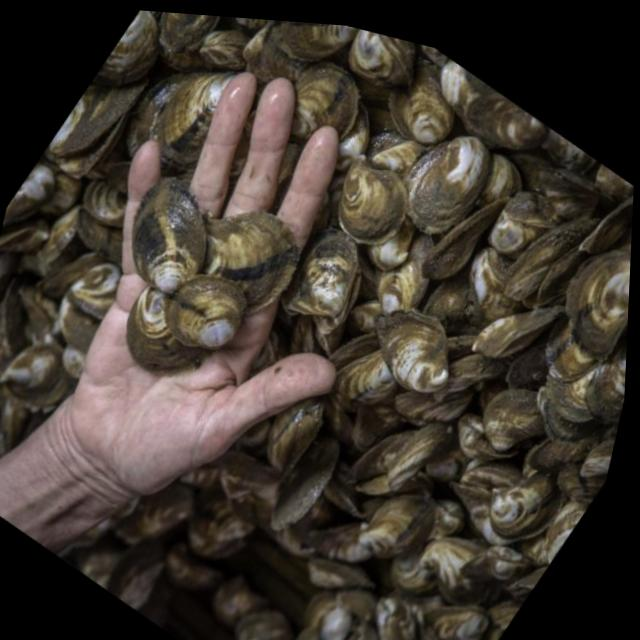Oyster-Closed: (486, 139, 616, 217), (419, 185, 506, 298), (475, 294, 569, 374), (0, 277, 26, 373), (462, 546, 530, 581), (18, 284, 58, 341), (199, 30, 248, 68)
Oyster-Indeterminate: (202, 211, 299, 307), (132, 177, 206, 293), (503, 217, 598, 307), (406, 136, 490, 234), (348, 422, 455, 495), (154, 71, 233, 166), (567, 249, 631, 358), (269, 434, 340, 531), (119, 57, 185, 154), (126, 286, 200, 370), (289, 229, 359, 317), (165, 274, 247, 349), (337, 160, 408, 245), (376, 310, 448, 392), (291, 63, 359, 140), (114, 481, 195, 545), (471, 144, 544, 214), (186, 489, 255, 560), (420, 536, 492, 604), (359, 493, 434, 558), (94, 10, 158, 86), (463, 93, 547, 150), (377, 233, 434, 314), (489, 473, 555, 538), (394, 74, 454, 144), (266, 398, 323, 471), (520, 502, 587, 564), (242, 20, 305, 82), (348, 29, 415, 86), (423, 272, 483, 335), (482, 388, 542, 451), (216, 451, 280, 506), (585, 340, 627, 423), (335, 350, 396, 404), (440, 59, 496, 117), (276, 21, 356, 61), (66, 261, 121, 319), (2, 163, 54, 224), (545, 320, 596, 382), (5, 367, 75, 412), (579, 196, 633, 254), (522, 435, 597, 476), (39, 252, 104, 298), (536, 387, 592, 440), (0, 345, 61, 392), (166, 541, 223, 591), (395, 389, 472, 426), (458, 413, 517, 461), (109, 558, 164, 609), (546, 367, 595, 422), (308, 522, 373, 563), (366, 130, 425, 175), (77, 534, 126, 588), (367, 217, 415, 270), (351, 403, 402, 452), (444, 353, 506, 393), (305, 590, 353, 640), (356, 75, 396, 135), (76, 210, 120, 264), (159, 12, 219, 51), (335, 102, 369, 170), (57, 296, 99, 351), (542, 130, 595, 173), (210, 574, 253, 627), (43, 204, 81, 263), (505, 339, 548, 390), (306, 557, 374, 589), (82, 180, 126, 227), (375, 597, 423, 640), (269, 514, 315, 558), (557, 463, 606, 503), (390, 553, 436, 595), (432, 606, 488, 640), (0, 384, 29, 448), (39, 172, 81, 216), (233, 610, 293, 640), (0, 218, 48, 254), (460, 461, 521, 489), (428, 498, 465, 541), (594, 164, 634, 202), (504, 566, 546, 602), (579, 438, 614, 478), (426, 448, 467, 482), (337, 588, 376, 621), (289, 316, 322, 353), (349, 300, 381, 333), (488, 599, 521, 631), (217, 16, 266, 36), (18, 252, 55, 277), (61, 344, 86, 379), (106, 161, 130, 194), (0, 253, 17, 293), (355, 621, 380, 640), (295, 625, 321, 640)
Oyster-Open: (44, 79, 145, 178), (323, 460, 385, 521)
